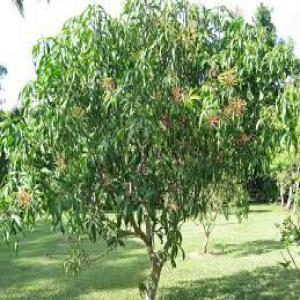Tree: (8, 5, 297, 292)
